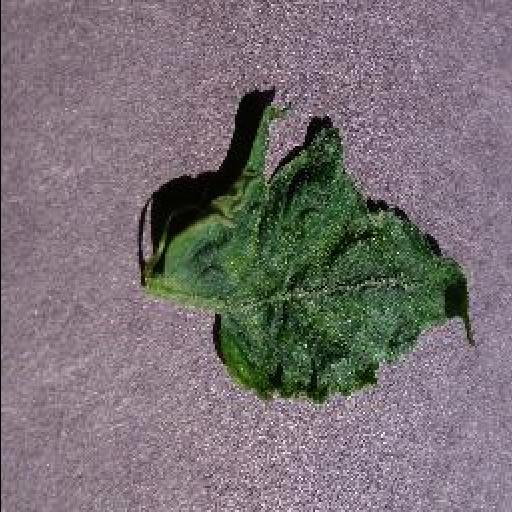disease_tomato: (158, 102, 480, 406)
